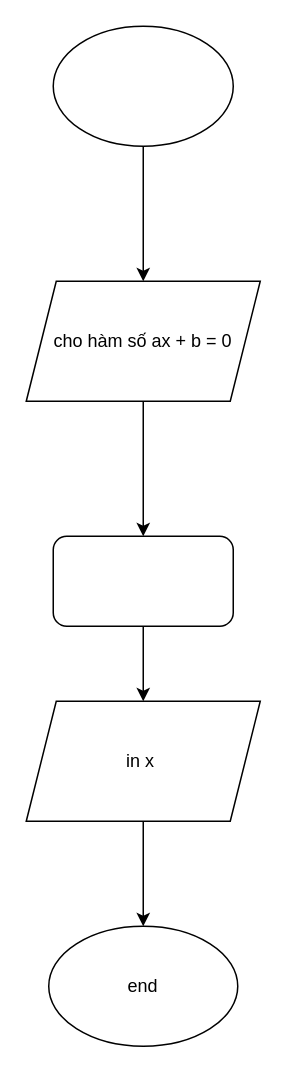
Some shapes in this 287 by 1073 pixel diagram are drawn without their labels. Each missing label, with the centre of its shape:
start: [142,85]
tìm x= -b/a: [142,580]
